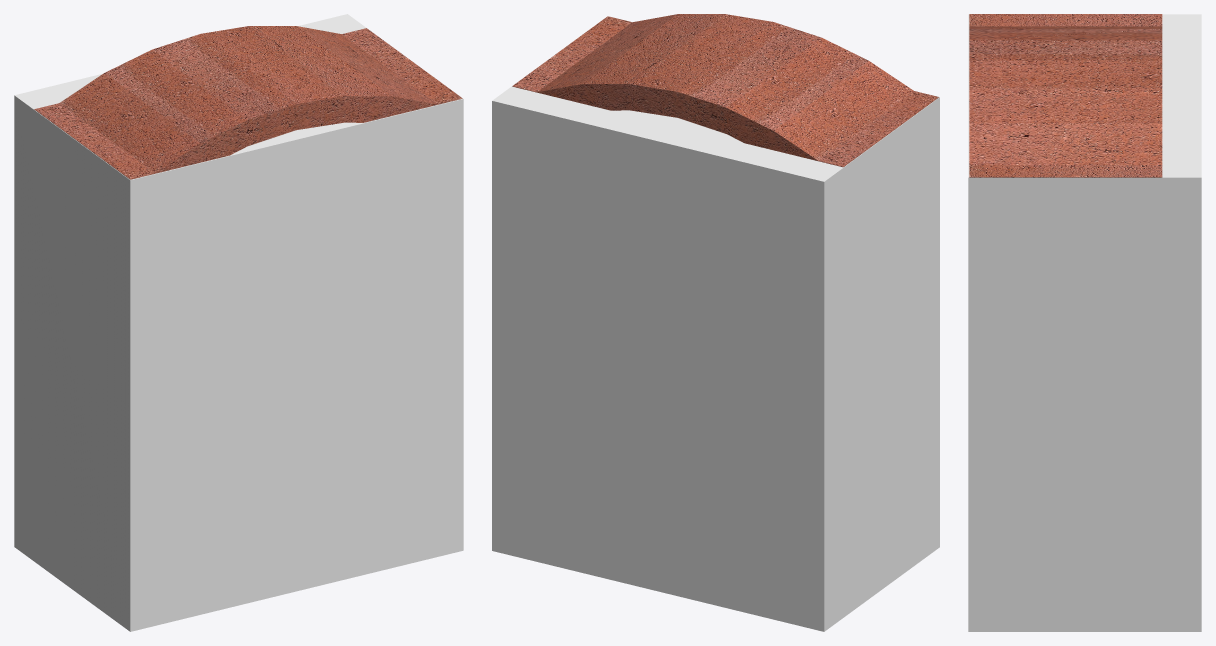
The picture shows the model from 3 angles, left to right: view 1: azimuth 30°, elevation 25°; view 2: azimuth 150°, elevation 25°; view 3: azimuth 270°, elevation 25°; orthographic projection.
Parts seen in each view (by area): view 1: _bb004, clay002; view 2: _bb004, clay002; view 3: _bb004, clay002.
Boxes of the visible parts, <box> form: _bb004: <box>14,14,463,631</box>; clay002: <box>34,26,462,179</box>; _bb004: <box>492,86,939,631</box>; clay002: <box>512,14,938,167</box>; _bb004: <box>968,14,1201,631</box>; clay002: <box>969,14,1162,177</box>.
Bounding box in the file's own units: 0.4012 × 0.56 × 0.242.
2 materials, 1 textured.
